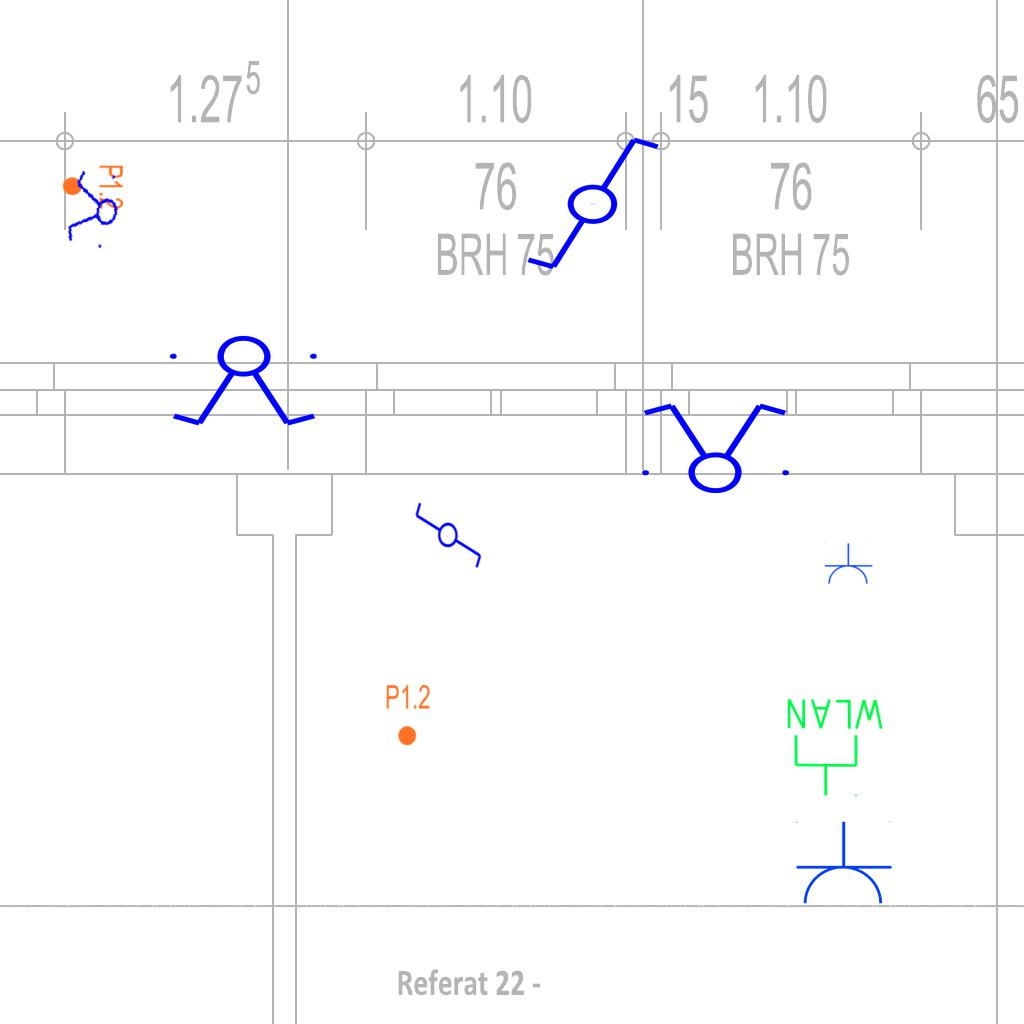Downlight_LED_Einbauleuchten_Flur: (385, 683, 431, 747), (61, 164, 125, 210)
Schukosteckdose_einfach: (793, 821, 893, 908), (823, 543, 873, 586)
Serienschalter: (630, 399, 798, 495), (161, 334, 329, 430), (62, 164, 126, 256)
WLAN: (783, 695, 888, 799)
Wechselschalter: (506, 130, 663, 274), (413, 492, 485, 570)
